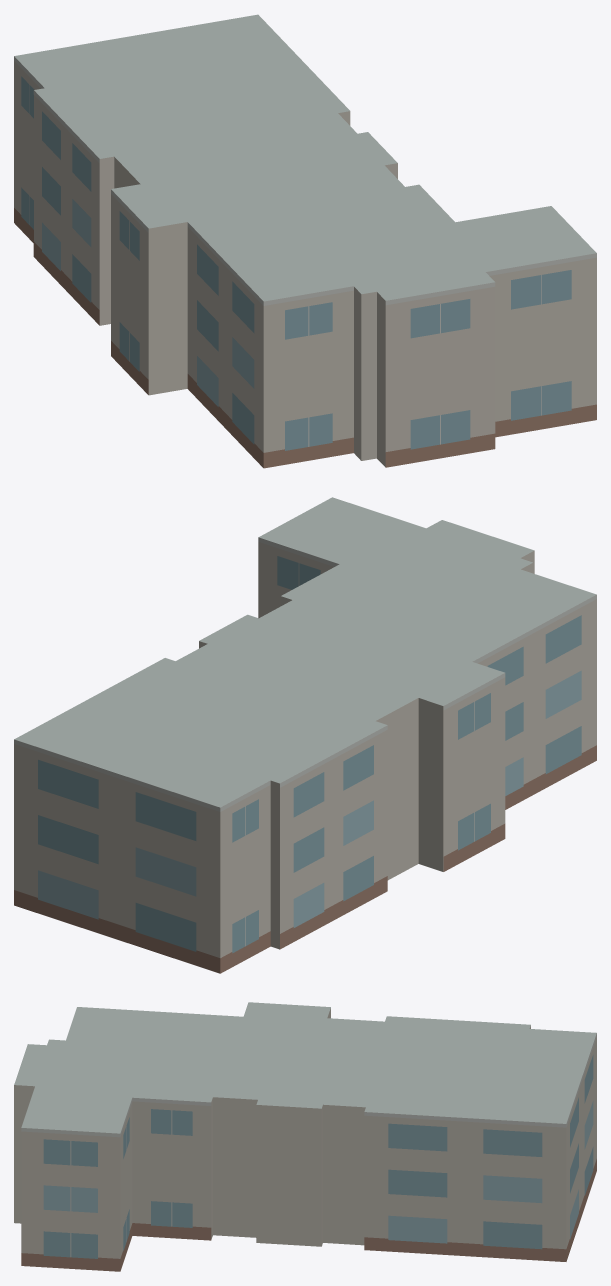
Rendered from survey-upis-32833045.glb.
3 renders of one model, top to bottom at view 1: azimuth 30°, elevation 25°; view 2: azimuth 150°, elevation 25°; view 3: azimuth 270°, elevation 25°, orthographic. The views are drawn at different scales.
Visible parts, largest first — view 1: survey-upis-32833045.tmp; view 2: survey-upis-32833045.tmp; view 3: survey-upis-32833045.tmp.
Boxes of the visible parts, left/top/right/bottom form: survey-upis-32833045.tmp: left=14, top=14, right=596, bottom=468; survey-upis-32833045.tmp: left=14, top=497, right=596, bottom=973; survey-upis-32833045.tmp: left=14, top=1002, right=596, bottom=1271.
Size of the model in its own units: 18.69 by 9.15 by 35.01.
